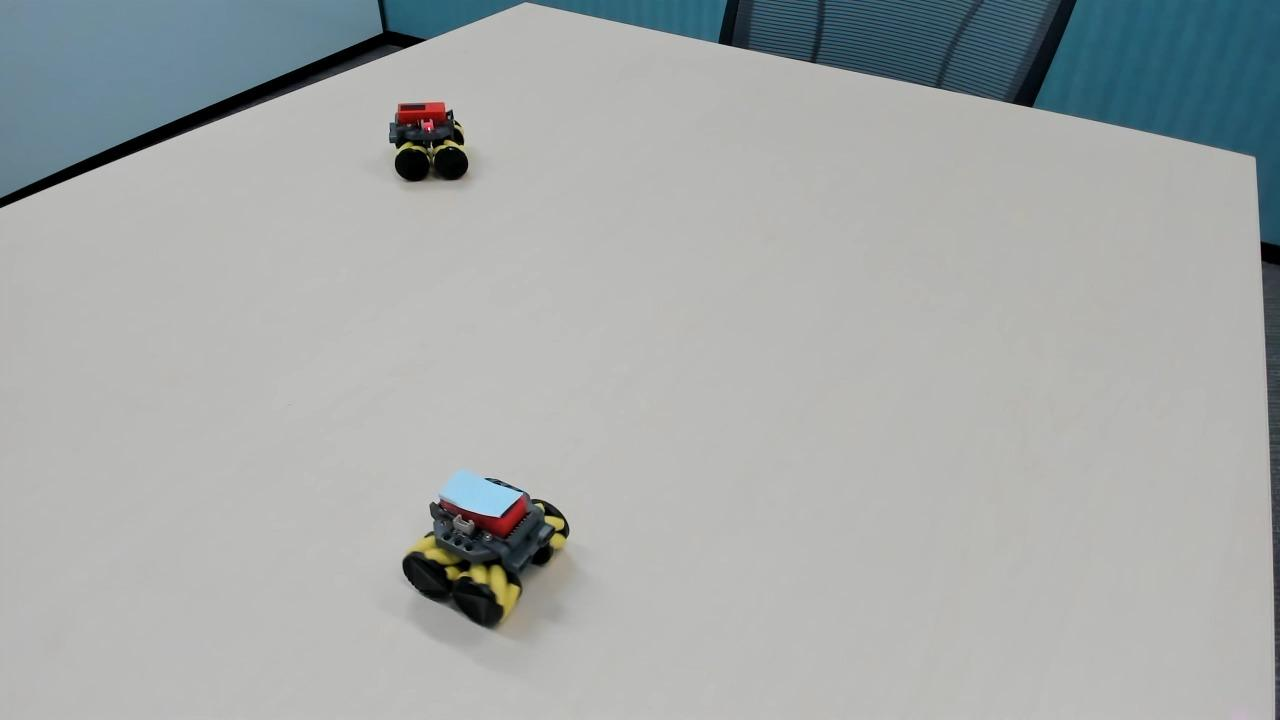B-Robot: (389, 460, 588, 634)
R-Robot: (378, 91, 479, 194)
